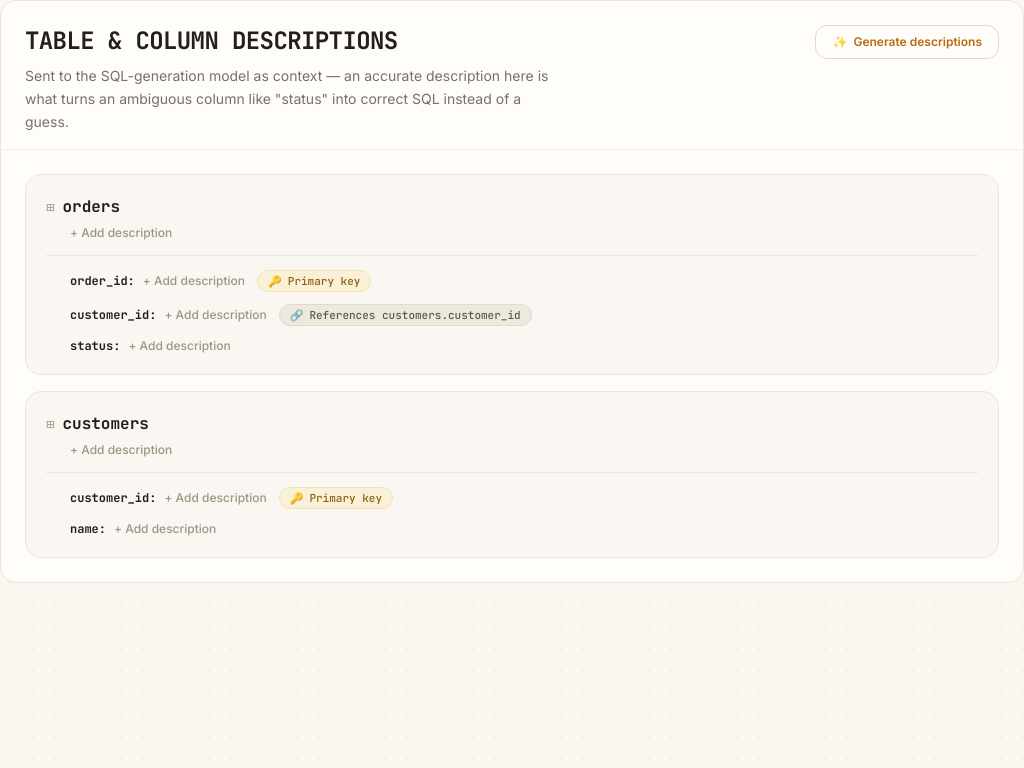
Test case: DescribeModal — generate button behavior › switches to Regenerate wording immediately after a first successful generation
Click the text "Generate descriptions" at (918, 42), box [853, 34, 982, 50]
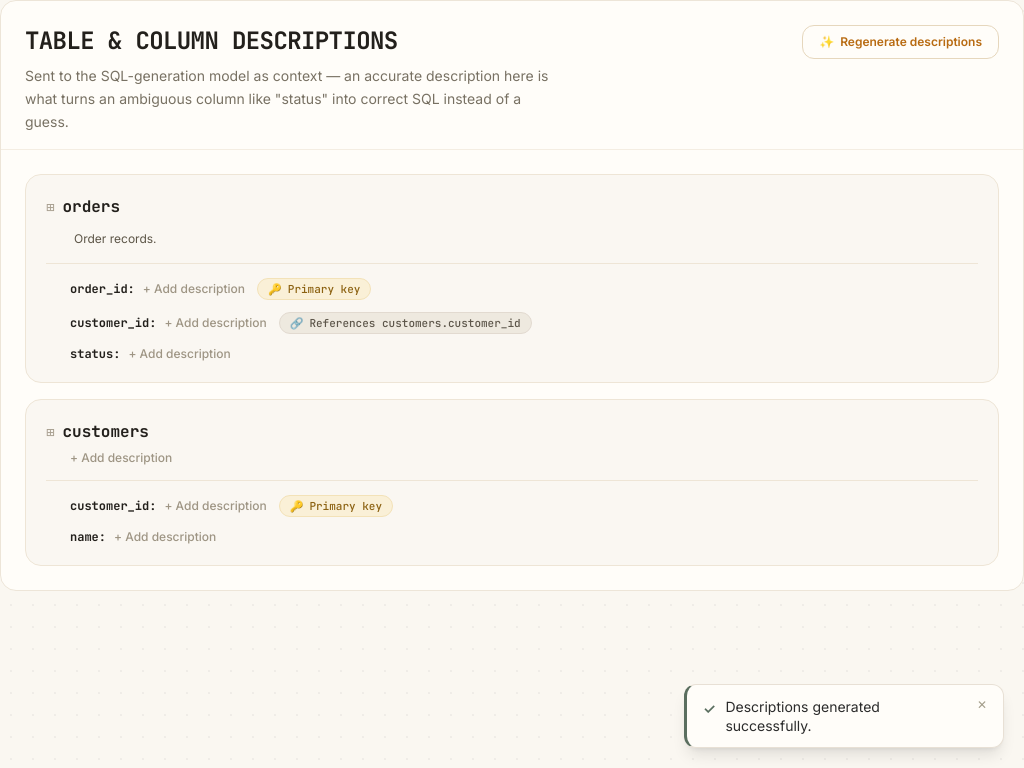
Expected: the text "Regenerate descriptions" is shown, [840, 34, 982, 50]
